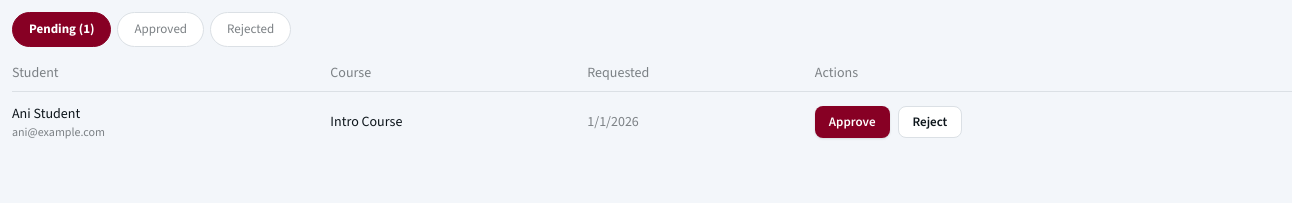
Test case: ParishJoinRequestsManager › shows an error when rejection fails
Click the button "Reject": (930, 122) [898,106,962,138]
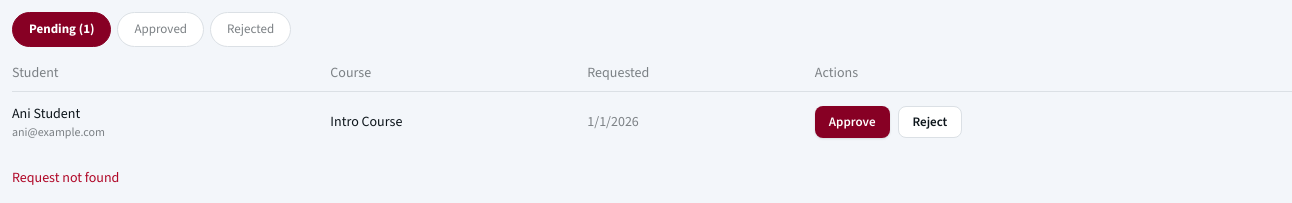
Check: the text "Request not found" is shown, box [12,168,119,187]
